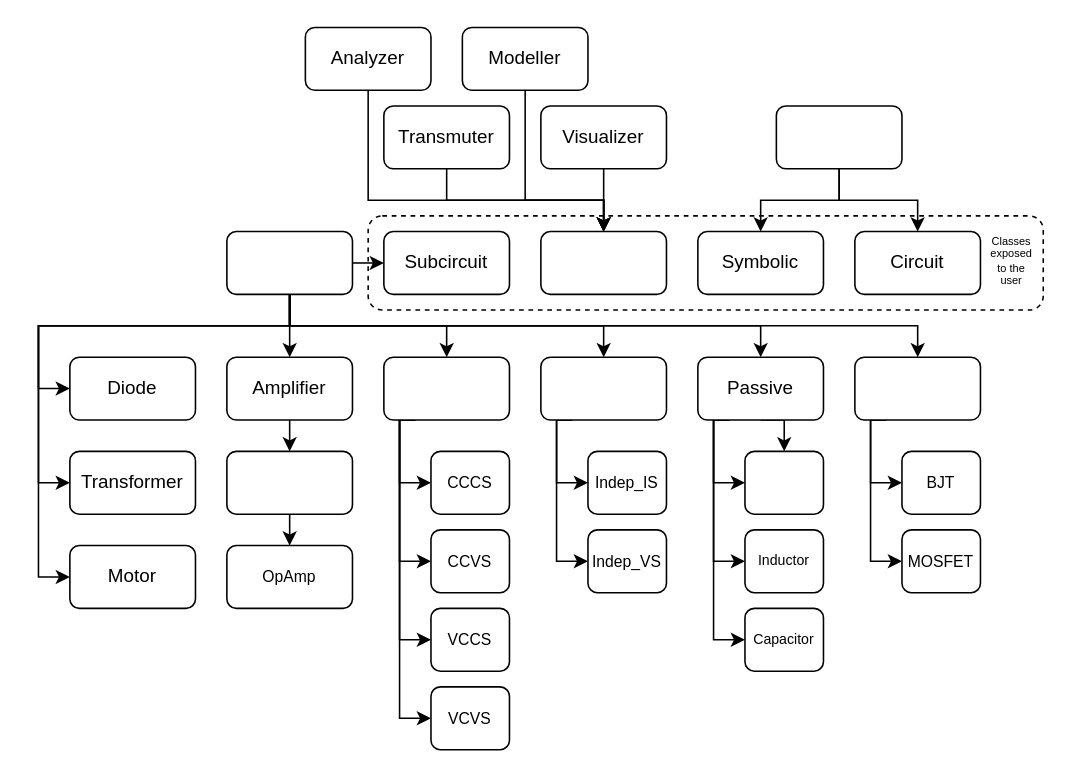
Image size: 1071x777. Some labels were removed from this diagram. Each missing label, with the centre of its shape:
"Base_ System" goes at (838,136).
"Dep_S" goes at (445,388).
"ELAB" goes at (602,262).
"Element" goes at (288,262).
"Ideal_ OpAmp" goes at (288,482).
"Indep_S" goes at (602,388).
"Resistor" goes at (783,482).
"Transistor" goes at (916,388).
